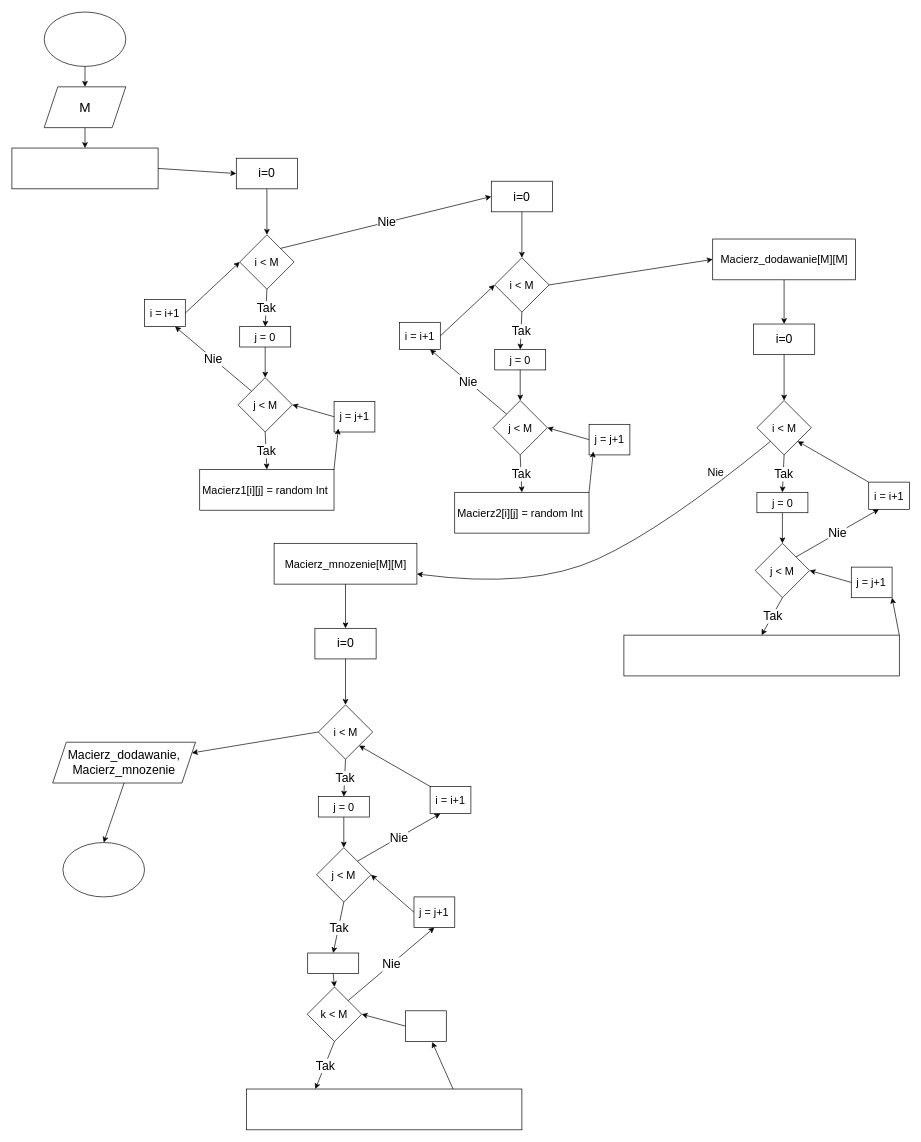
Image size: 921x1142. Some labels were removed from this diagram. Here are the shapes that lost their labels. From the top down, the box of each, then its label:
(44, 11, 126, 66): Start
(11, 147, 158, 189): macierz1[M][M], macierz2[M][M]
(623, 634, 899, 676): macierz_dodawanie[i][j] = macierz1[i][j] + macierz2[i][j]
(62, 842, 144, 897): Stop
(307, 952, 359, 973): k = 0
(405, 1010, 446, 1041): k = k+1
(246, 1088, 522, 1130): macierz_mnozenie[i][j] += macierz1[i][k] * macierz2[k][j]
